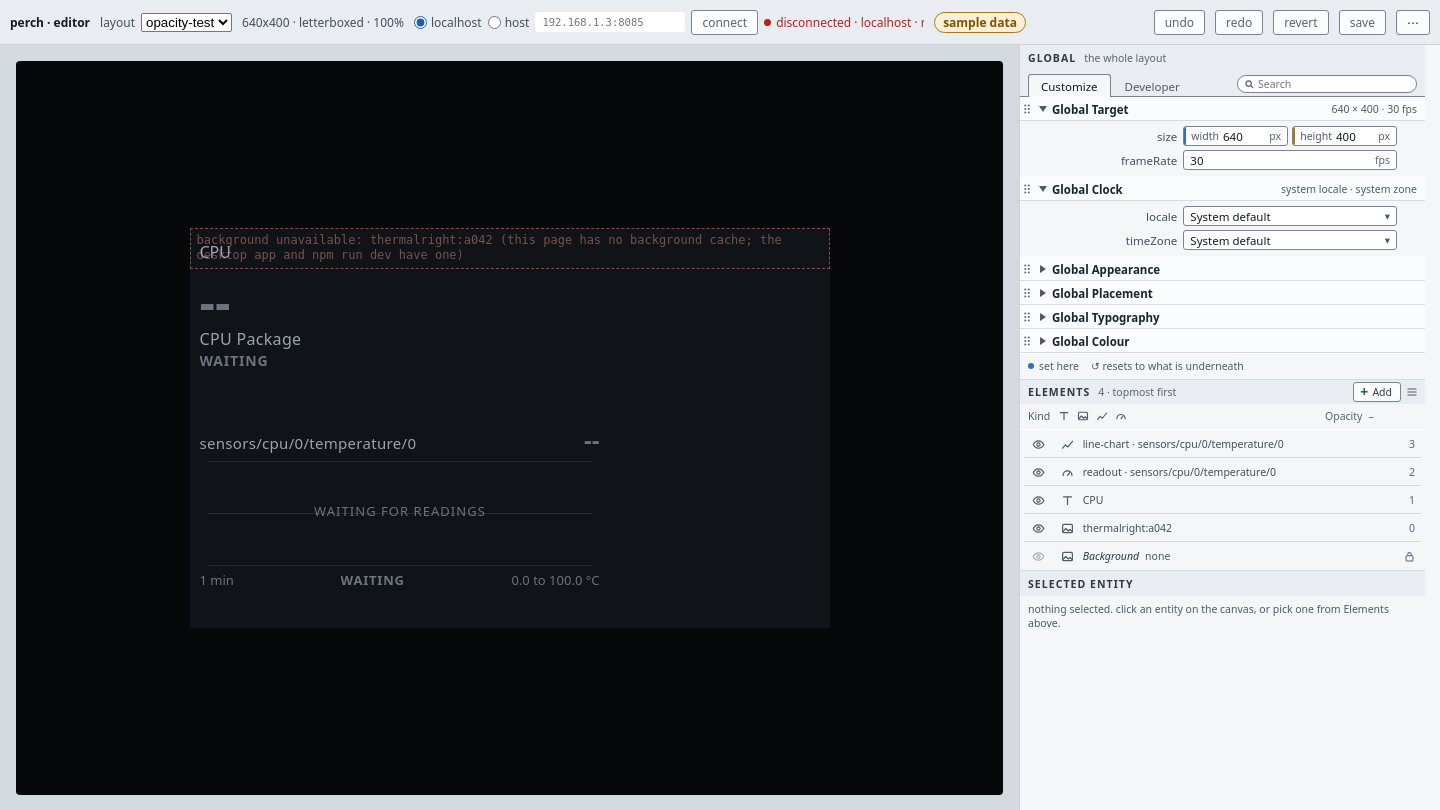
Test: an element`s opacity › is the first row of a 1 element`s Appearance, in percent
Click the button "CPU 1" at (1067, 500), box [1052,486,1421,514]
(page scrolled)
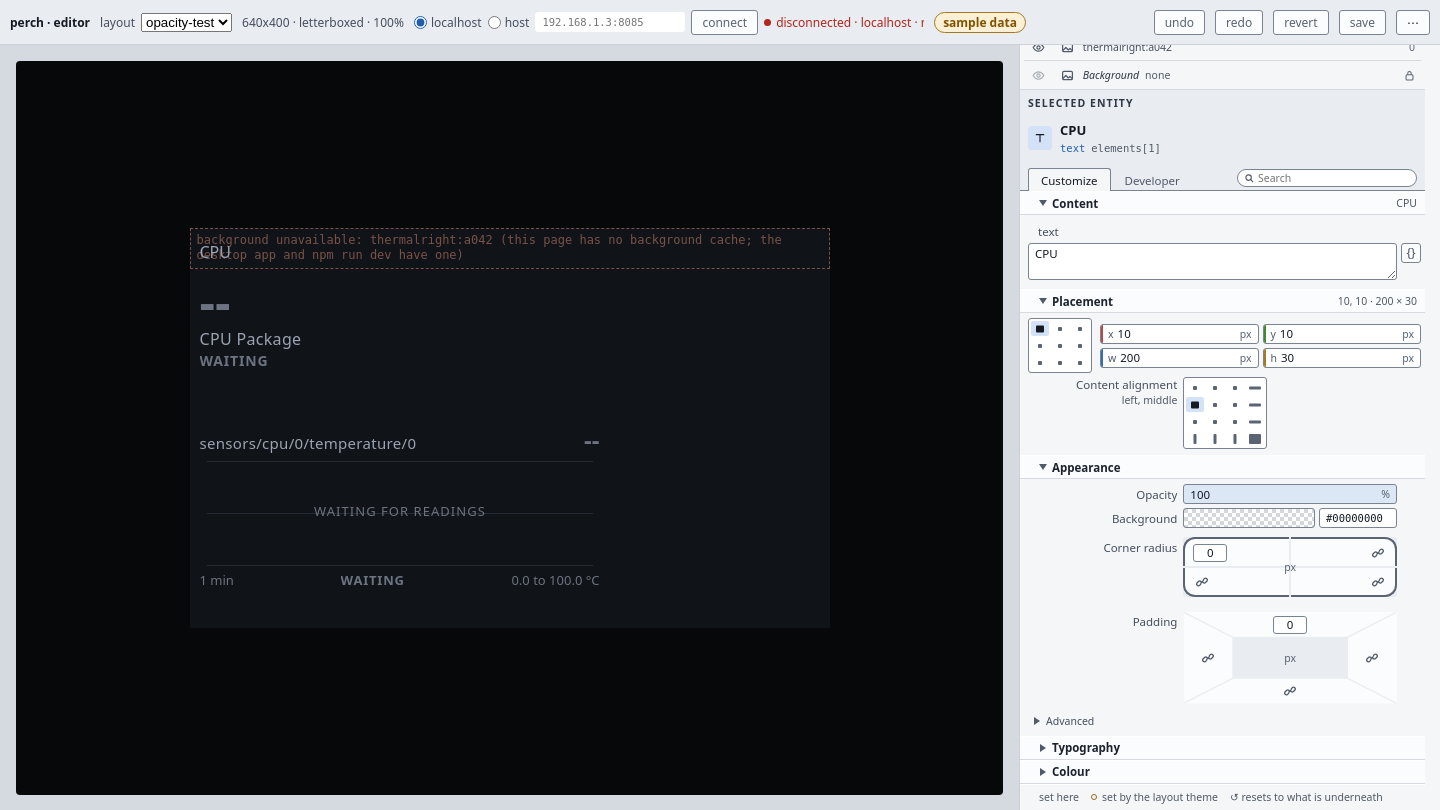
Expected: the number field labelled "Opacity" holds "100", [1184,485,1381,503]
